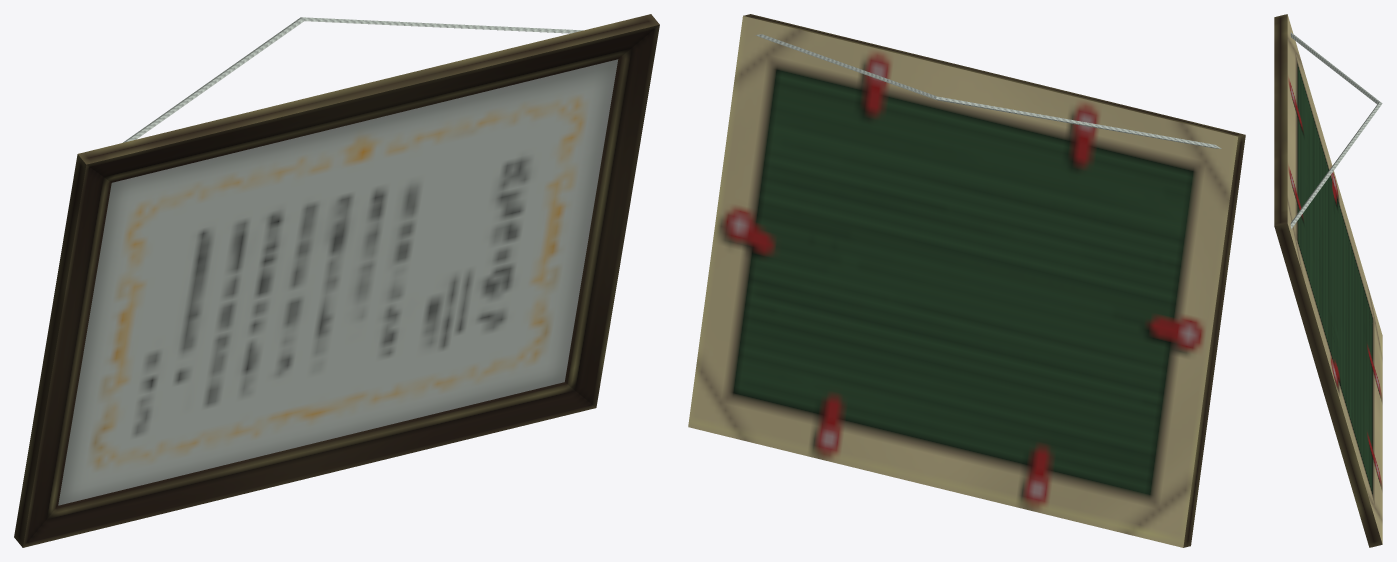
The model's file is Paper_01_02.fbx.
3 views of the same model, side by side, from view 1: azimuth 30°, elevation 25°; view 2: azimuth 150°, elevation 25°; view 3: azimuth 270°, elevation 25° (orthographic). The views are drawn at different scales.
Visible parts, largest first — view 1: paper_01_02; view 2: paper_01_02; view 3: paper_01_02.
Part boxes in pixels (x1,y1,x2,y2): paper_01_02: (14,14,659,547); paper_01_02: (688,14,1245,547); paper_01_02: (1274,14,1382,547).
Bounding box in the file's own units: 33.63 × 25.53 × 7.35.
